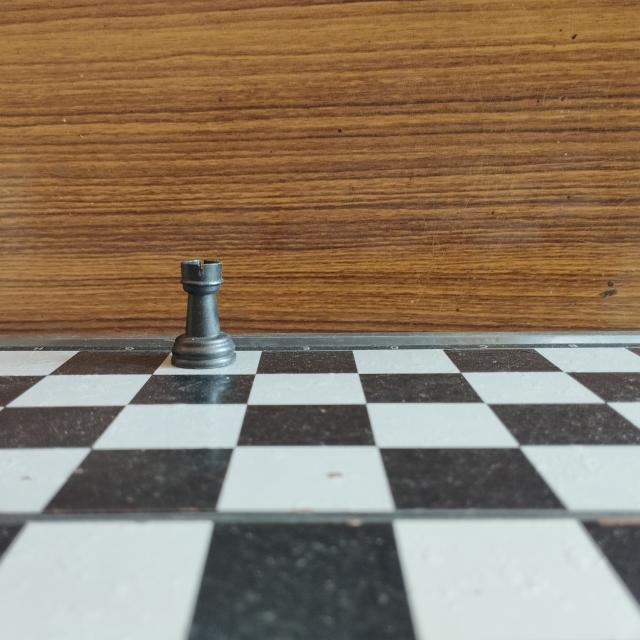Black Rook: (165, 253, 241, 374)
